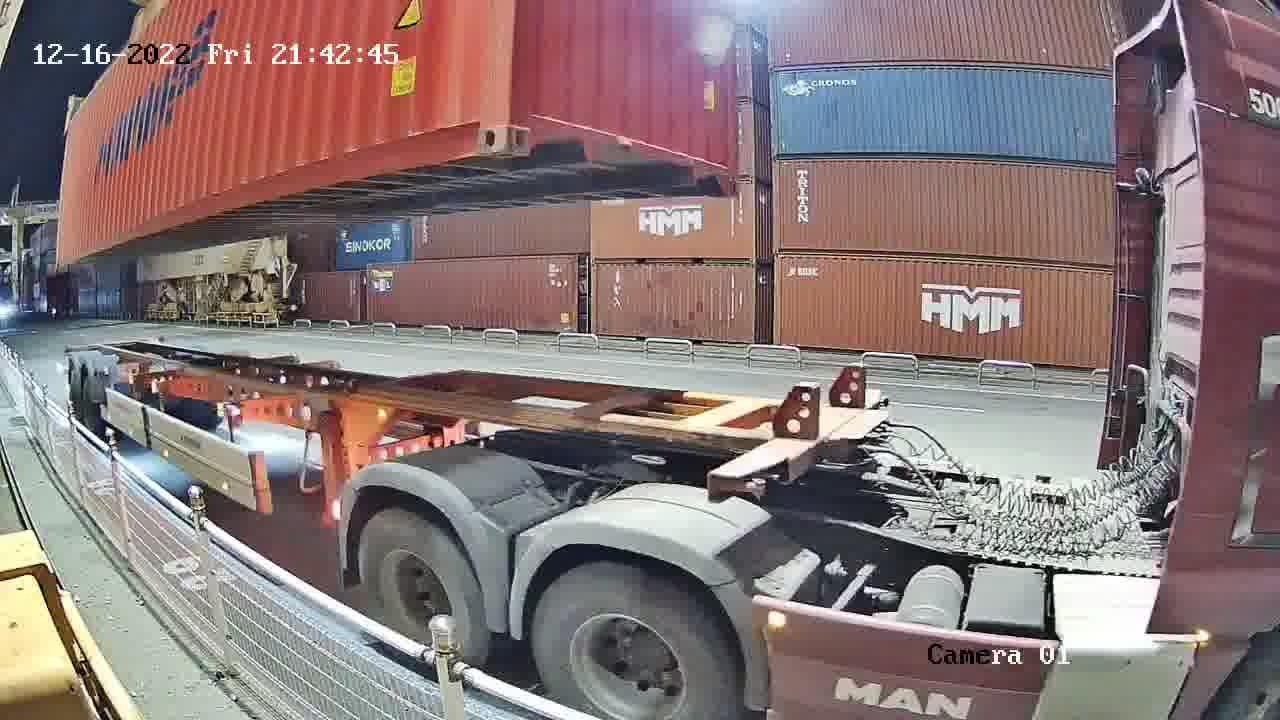Container: (509, 84, 741, 199)
Hole_L: (509, 84, 544, 157)
Hole_R: (458, 84, 510, 158), (715, 153, 740, 197)
Tire: (531, 565, 738, 719), (357, 509, 491, 669)
